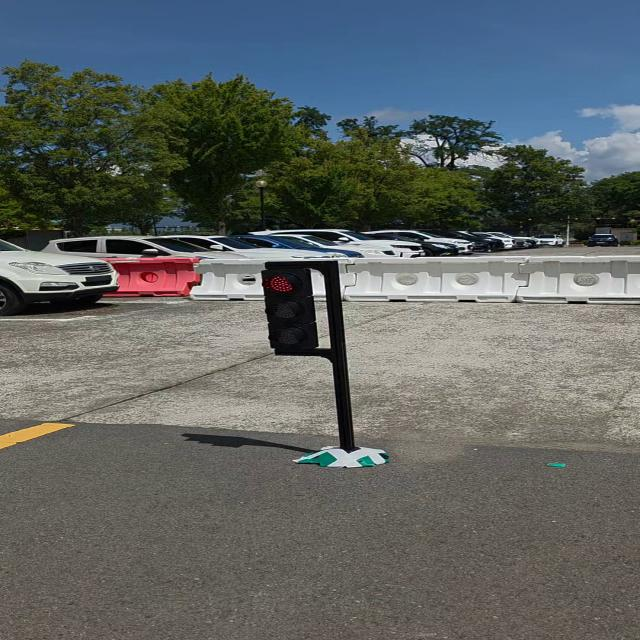red: (256, 269, 322, 352)
